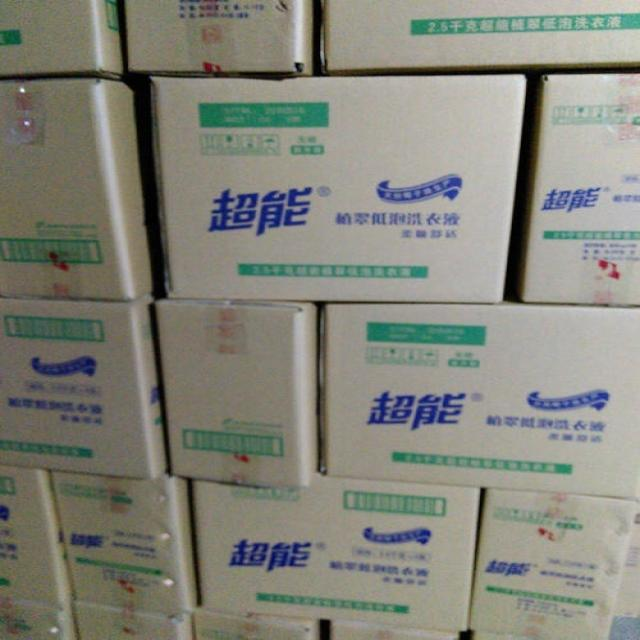box: (154, 75, 527, 303), (325, 302, 640, 501), (195, 477, 481, 632), (0, 77, 166, 301), (155, 297, 319, 490), (0, 294, 169, 478), (515, 72, 640, 307), (467, 488, 639, 640), (317, 0, 640, 77), (55, 469, 197, 616), (123, 0, 312, 80), (0, 464, 72, 611), (0, 0, 127, 78), (76, 603, 195, 640), (196, 611, 323, 640), (0, 599, 78, 640), (330, 623, 458, 640), (472, 631, 608, 640)
